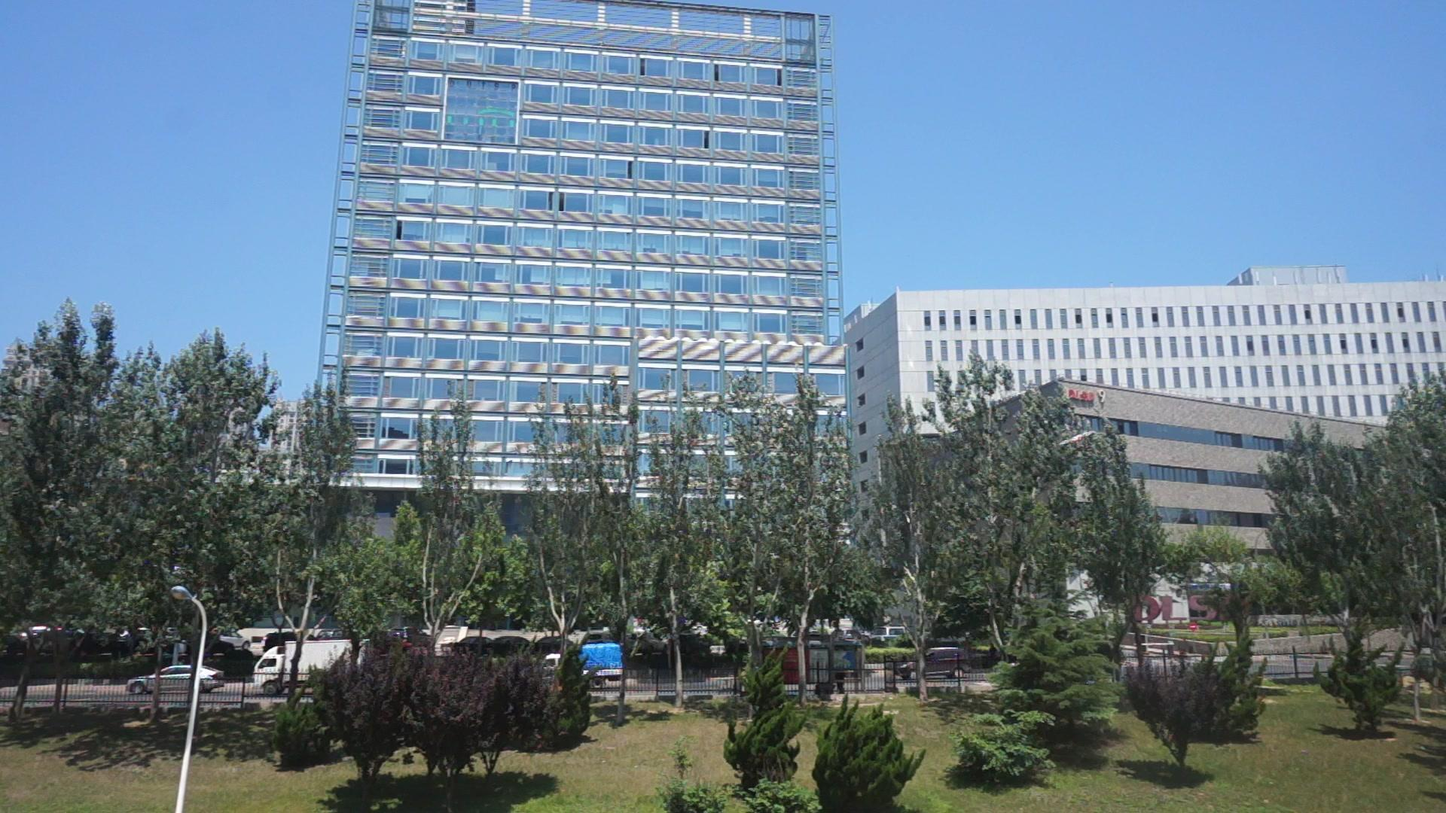UAV: (1059, 431, 1098, 447)
